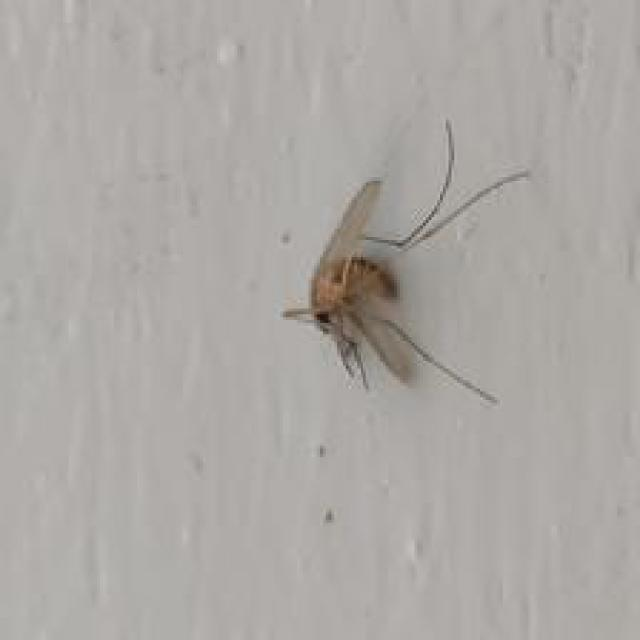Culex: (281, 116, 530, 407)
